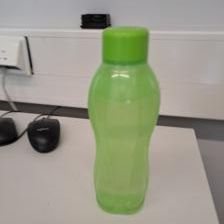bottle: (83, 25, 164, 216)
